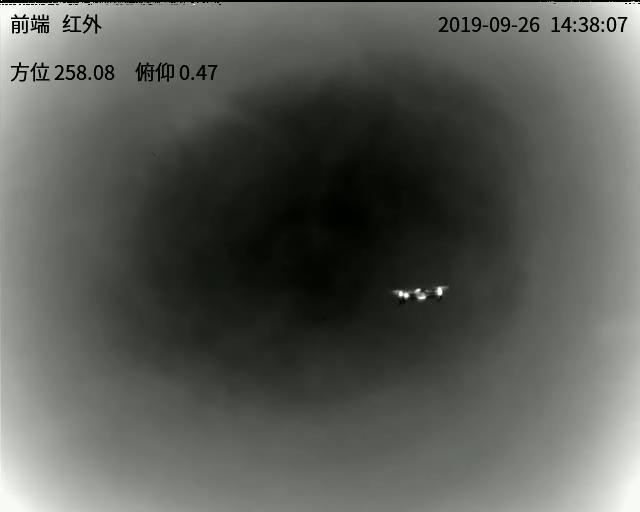uav: (390, 275, 448, 308)
